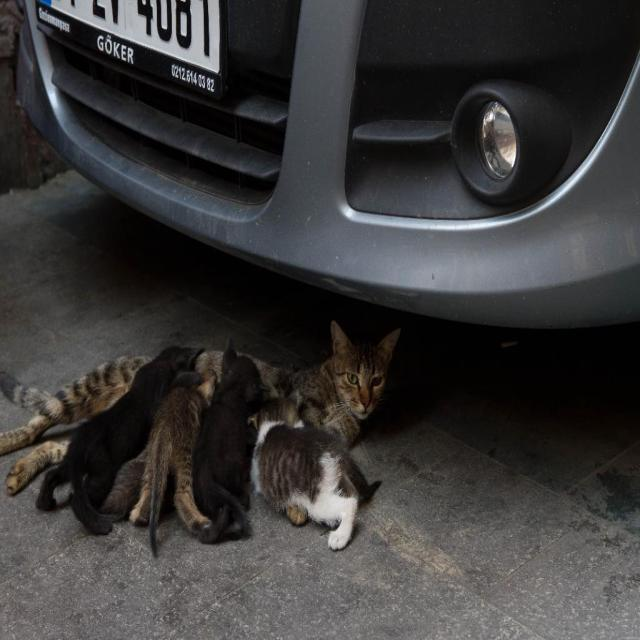Cat: (0, 321, 399, 558)
